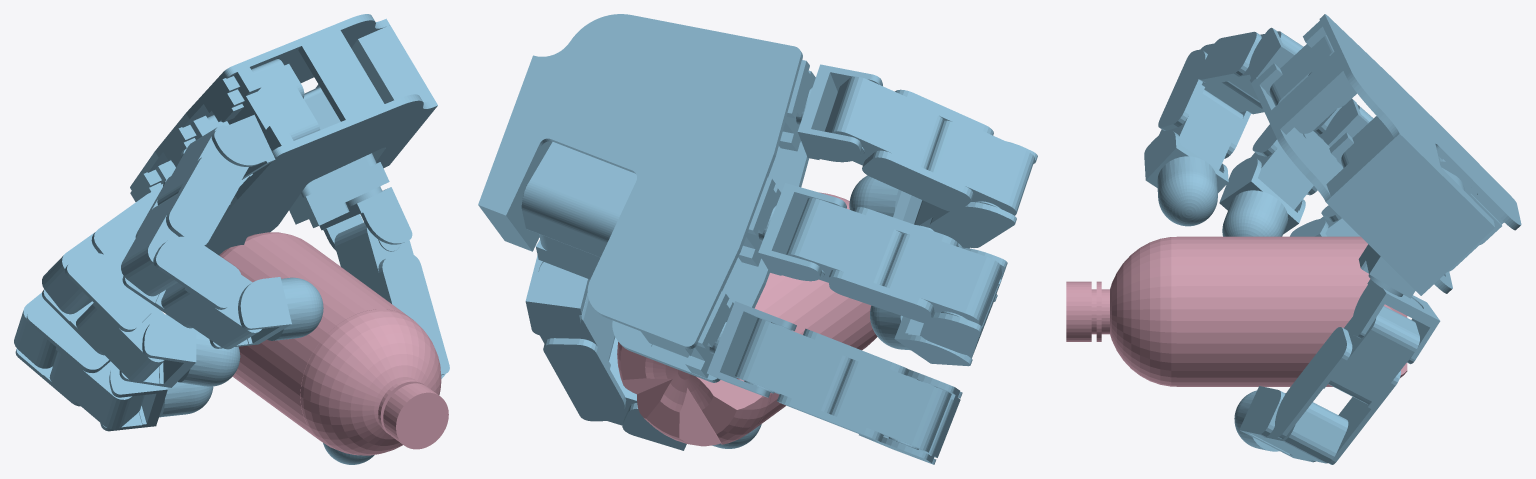
3 views of the same model, side by side, from view 1: azimuth 30°, elevation 25°; view 2: azimuth 150°, elevation 25°; view 3: azimuth 270°, elevation 25° (orthographic). The views are drawn at different scales.
Visible parts, largest first — view 1: world; view 2: world; view 3: world.
Boxes of the visible parts, x1,y1,x2,y2 form: world: [14, 14, 449, 464]; world: [478, 14, 1037, 464]; world: [1066, 14, 1521, 464].
Size of the model in its own units: 0.1741 by 0.1744 by 0.1823.
